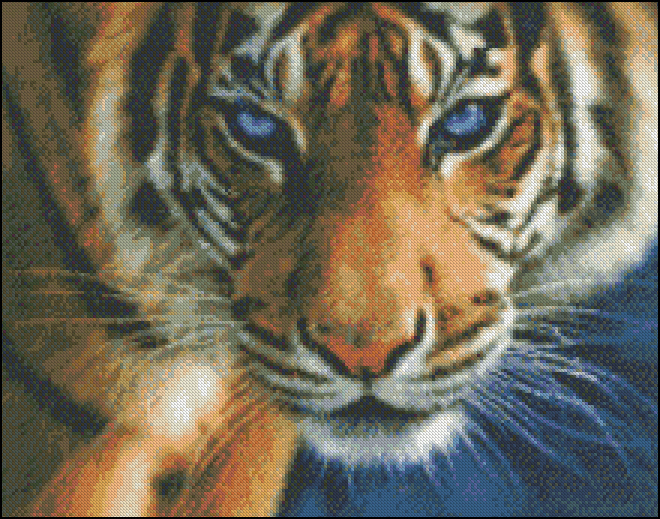Tigrew: (36, 8, 613, 452)
